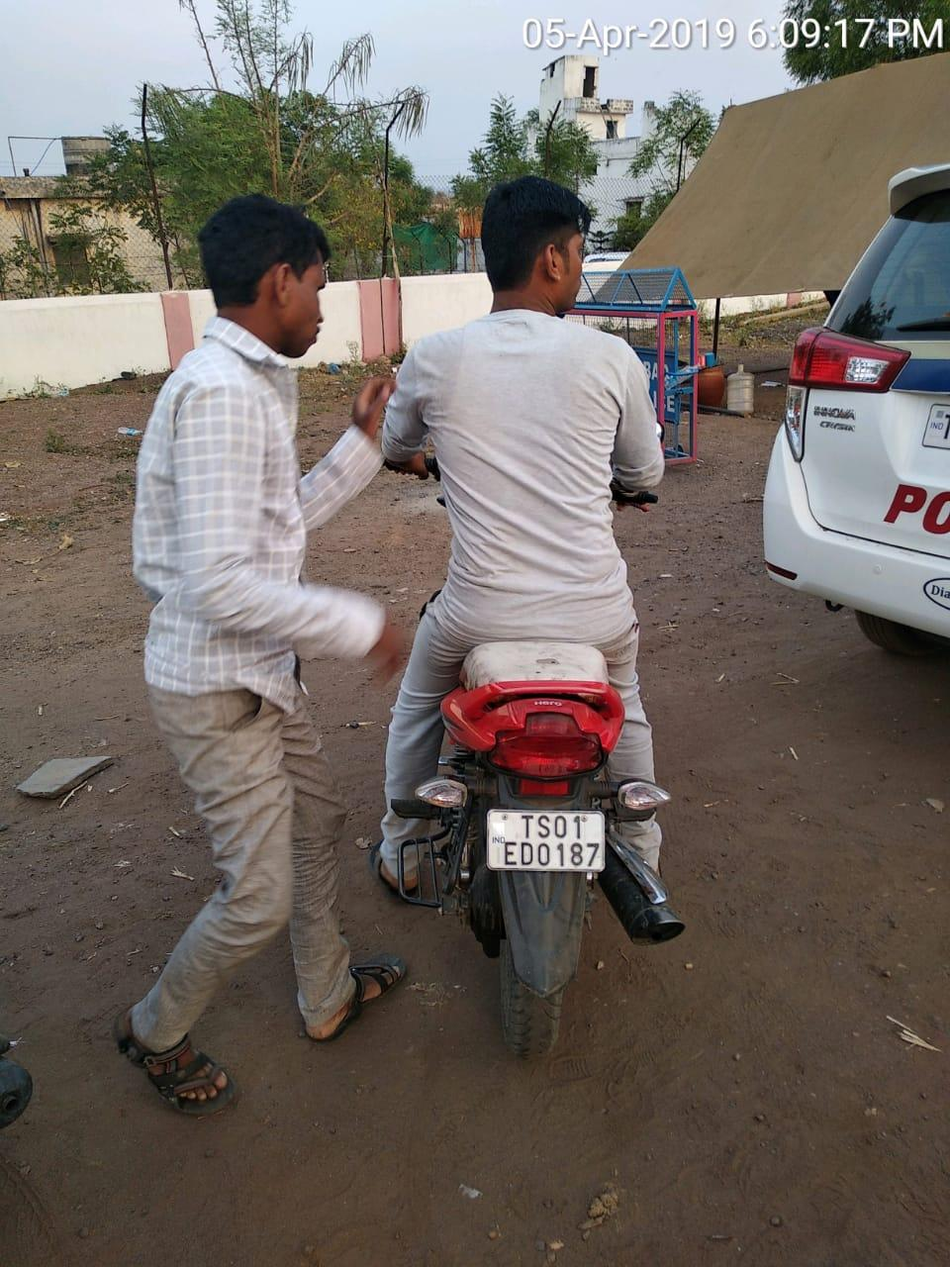plate: (478, 800, 638, 897)
